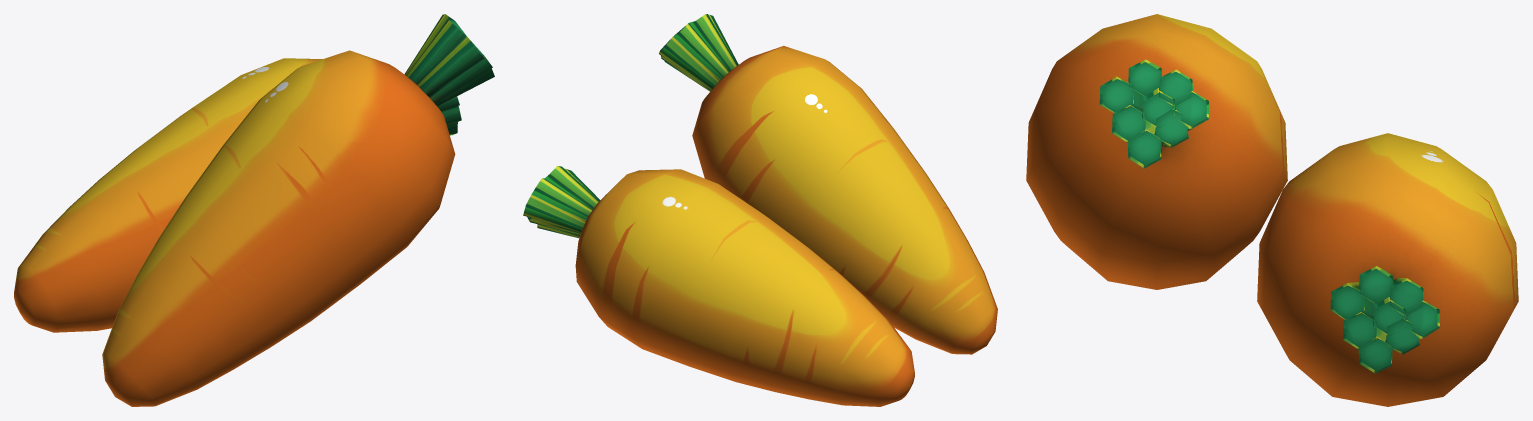
File: Carrot.fbx
3 renders of one model, left to right at view 1: azimuth 30°, elevation 25°; view 2: azimuth 150°, elevation 25°; view 3: azimuth 270°, elevation 25°, orthographic. The views are drawn at different scales.
Parts seen in each view (by area): view 1: 039; view 2: 039; view 3: 039.
Boxes of the visible parts, x1=… form: 039: x1=14, y1=14, x2=494, y2=406; 039: x1=523, y1=14, x2=997, y2=406; 039: x1=1026, y1=14, x2=1518, y2=406.
Bounding box in the file's own units: 54.68 × 37.6 × 42.85.
Materials: 1 (1 with a texture image).
